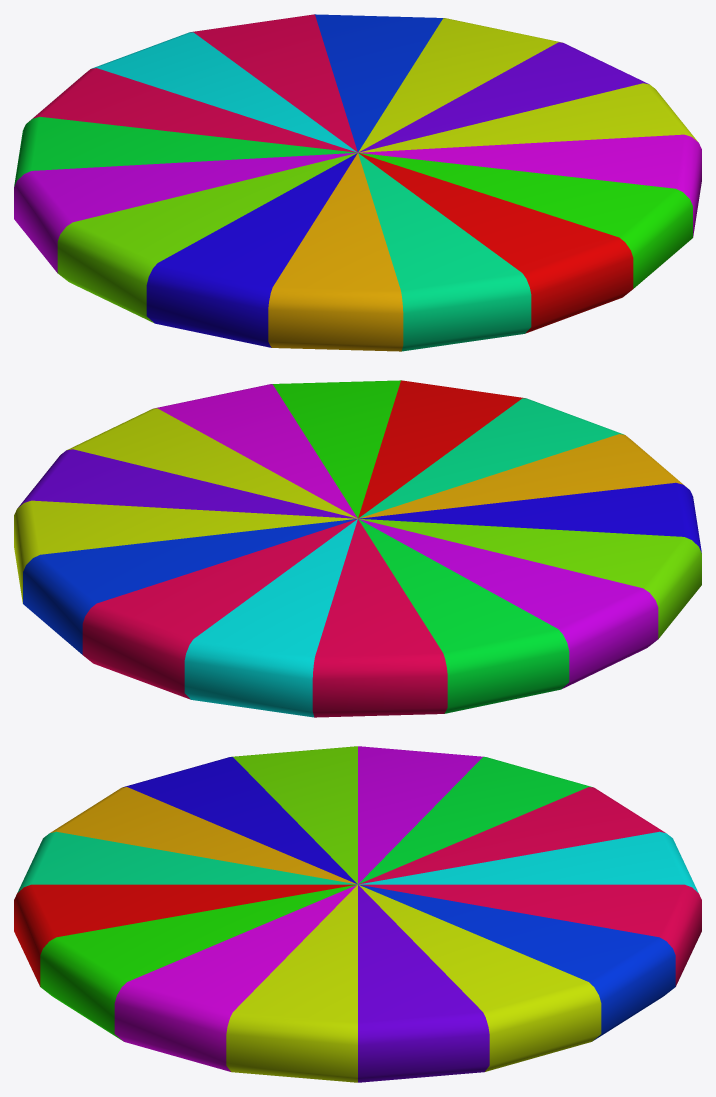
Rendered from wheelOLD2.glb.
3 views of the same model, one above another, from view 1: azimuth 30°, elevation 25°; view 2: azimuth 150°, elevation 25°; view 3: azimuth 270°, elevation 25° (orthographic).
Parts seen in each view (by area): view 1: Cylinder; view 2: Cylinder; view 3: Cylinder.
Part boxes in pixels (box(x1,y1,x2,y2)): Cylinder: box(14, 14, 701, 351); Cylinder: box(14, 380, 701, 717); Cylinder: box(14, 746, 701, 1082).
Bounding box in the file's own units: 8 × 0.75 × 8.
